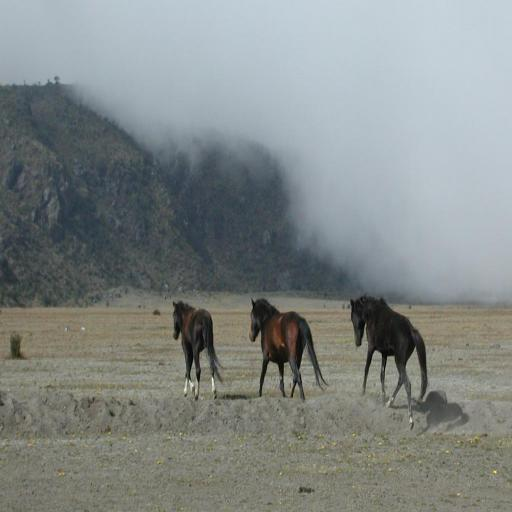Horse: (350, 290, 430, 430), (248, 294, 331, 399), (172, 297, 224, 399)
